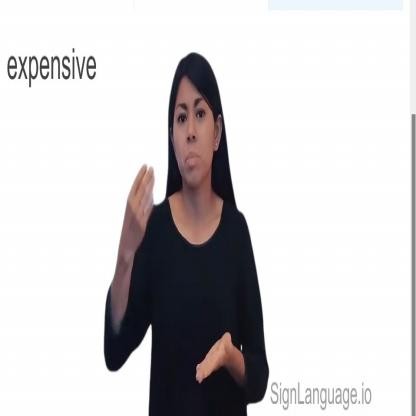Expensive: (112, 163, 241, 413)
